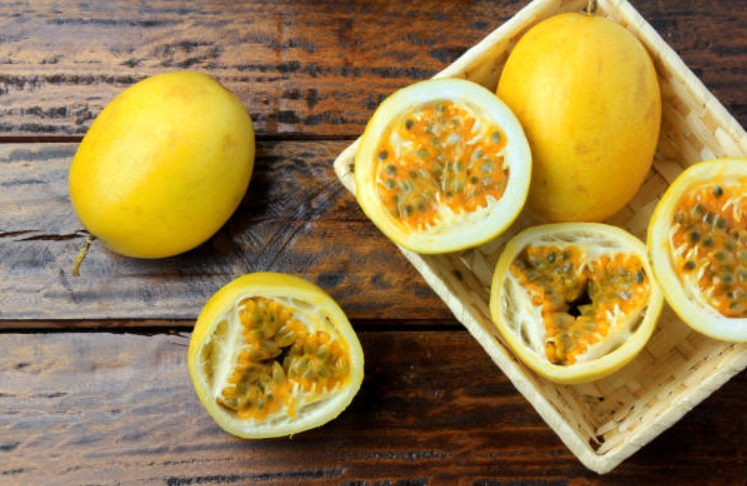maracuya: (61, 65, 264, 267), (491, 8, 665, 229)
